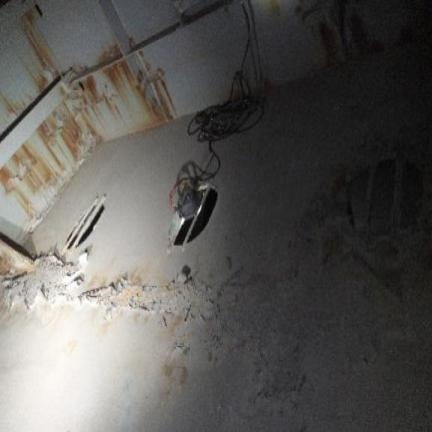besi_tidak_karat: (0, 43, 431, 431)
